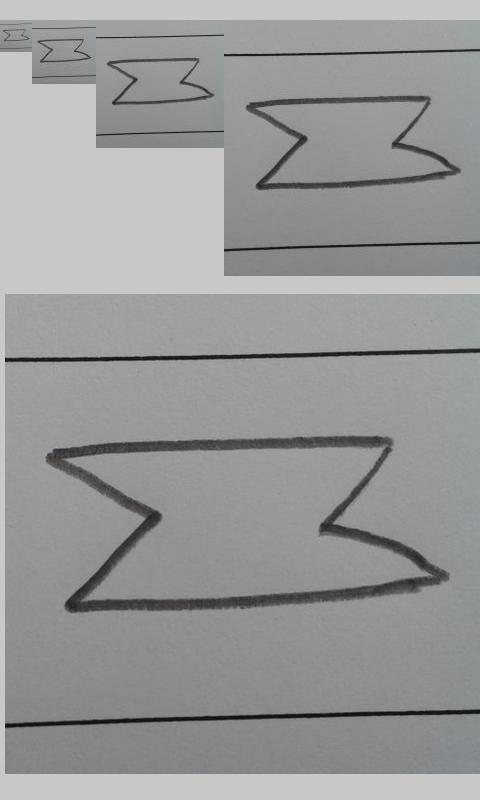edit_text: (46, 434, 445, 613), (246, 96, 457, 190), (107, 58, 214, 106), (37, 38, 91, 64), (3, 29, 30, 42)
